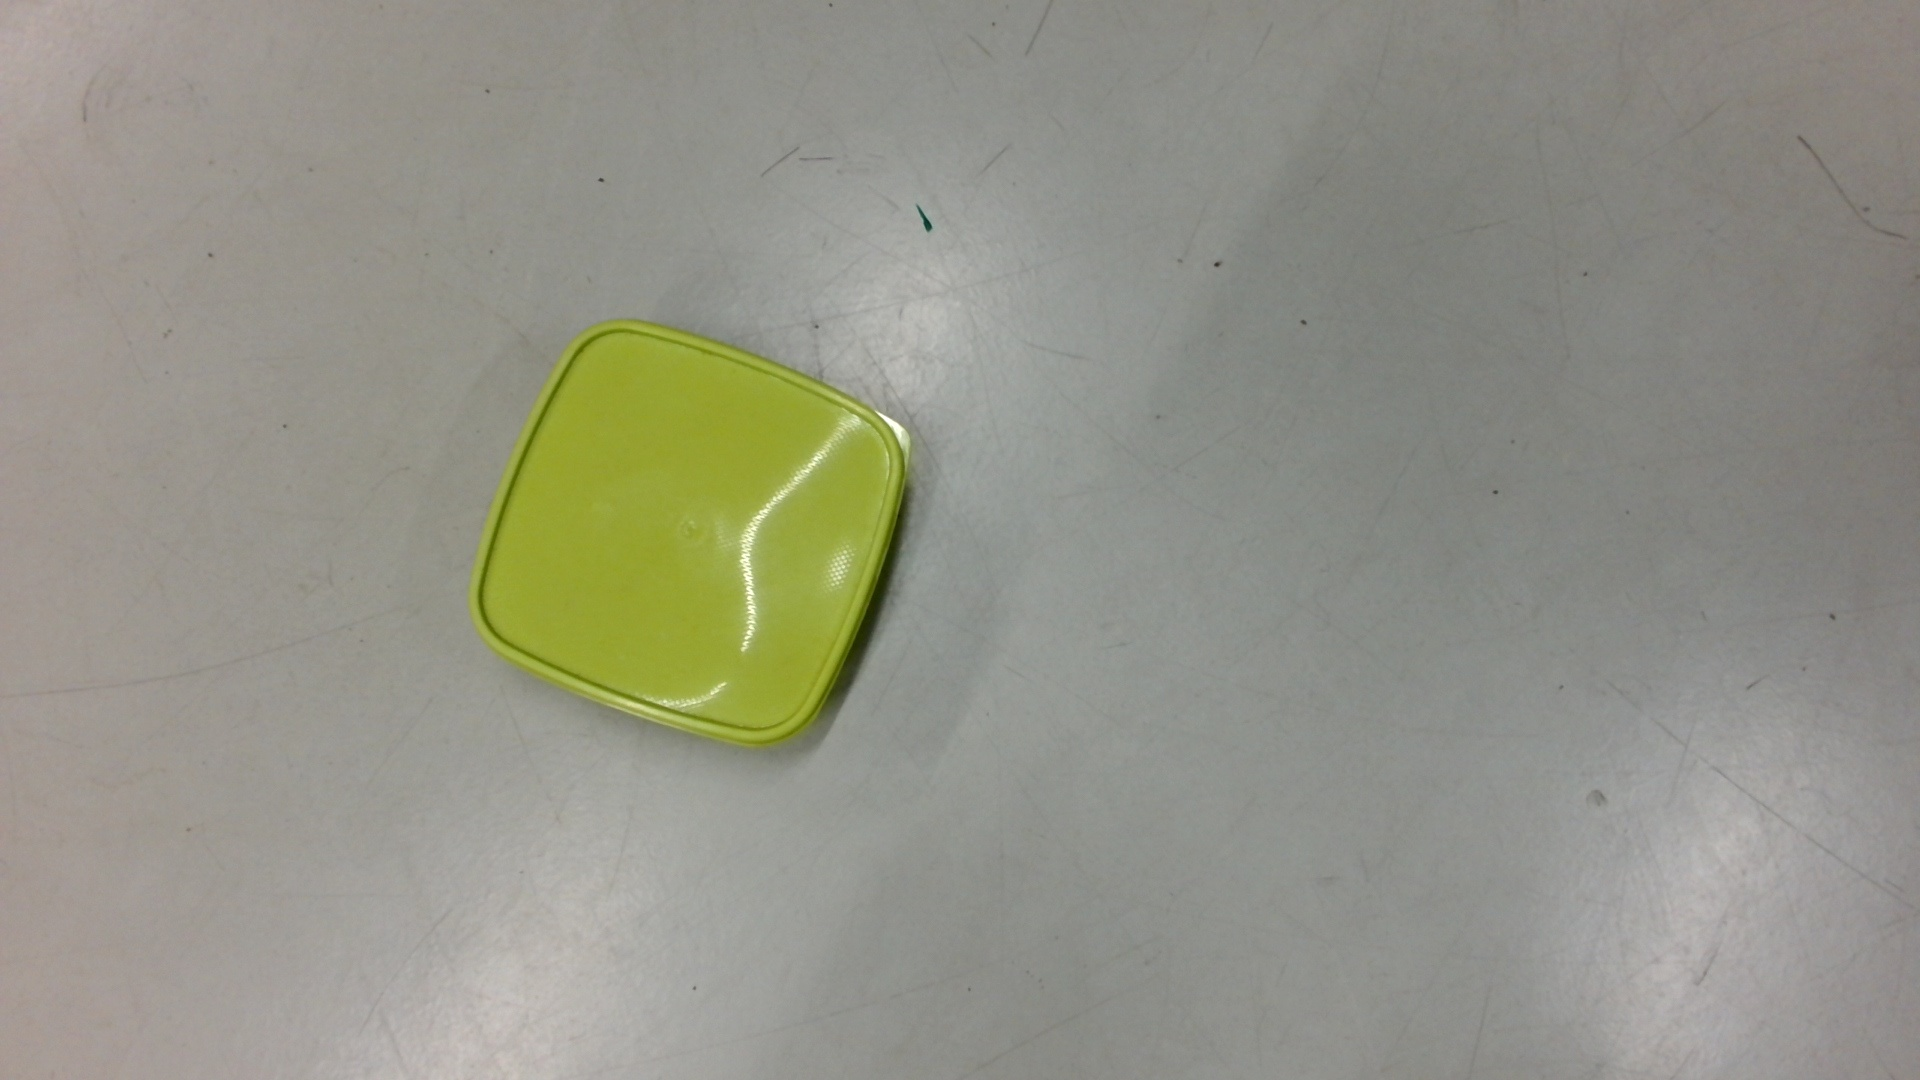Box: (462, 315, 919, 756)
